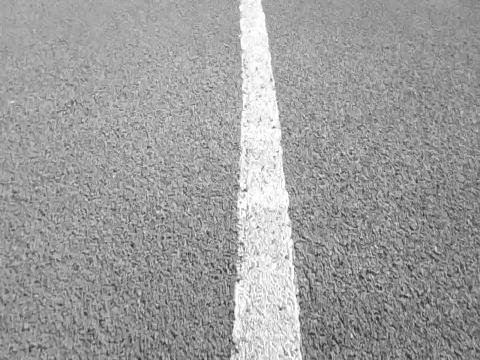Lines: (232, 0, 304, 360)
